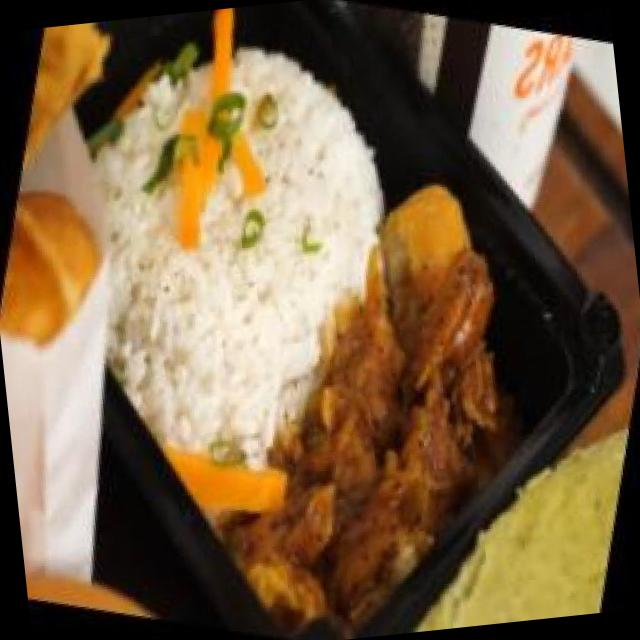black pepper rice bowl: (0, 0, 622, 640)
